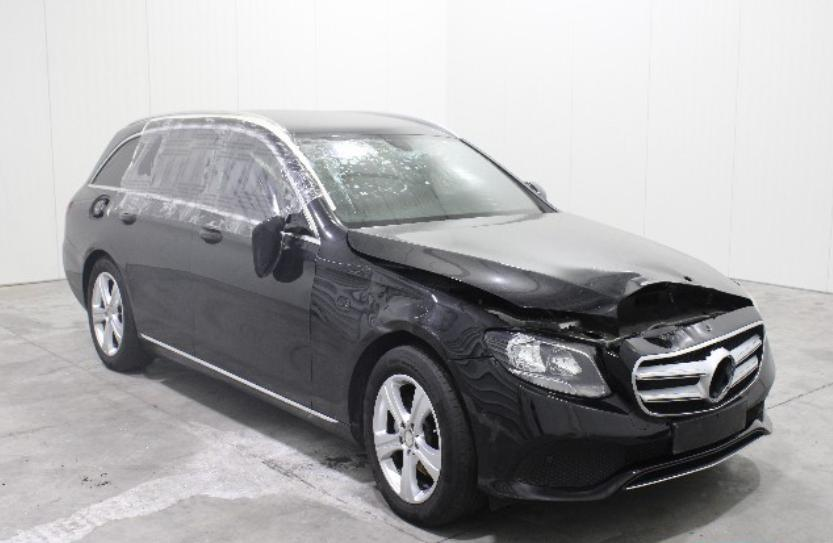Back-bumper: (64, 235, 85, 306)
Back-door: (117, 120, 225, 355)
Back-wheel: (87, 258, 154, 369)
Back-window: (93, 136, 138, 189)
Fender: (311, 243, 513, 423)
Front-bumper: (445, 308, 773, 502)
Front-door: (189, 123, 319, 408)
Front-wheel: (365, 349, 483, 521)
Grille: (636, 328, 762, 416)
Headlight: (487, 333, 607, 392)
Hood: (352, 213, 748, 319)
License-plate: (672, 402, 747, 455)
Mirror: (254, 216, 290, 277), (524, 181, 547, 200)
Quarter-panel: (66, 186, 121, 262)
Rocker-panel: (139, 337, 360, 445)
Roof: (115, 108, 456, 144)
Windshield: (289, 135, 544, 228)
